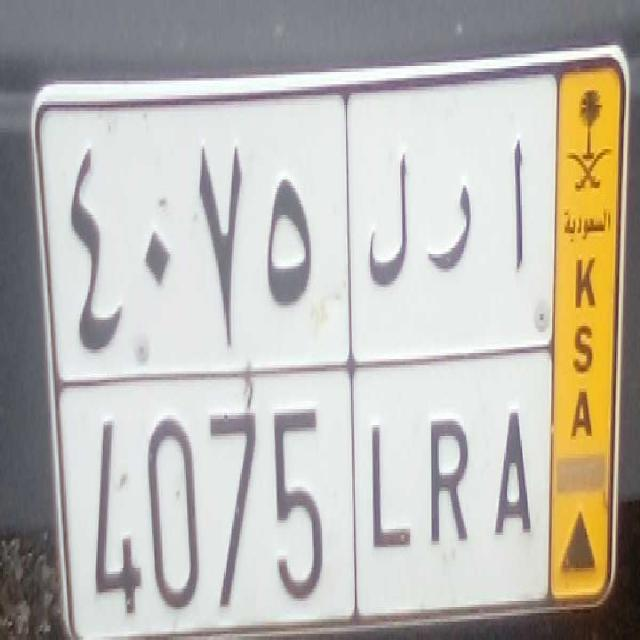license_plate: (56, 364, 554, 631)
